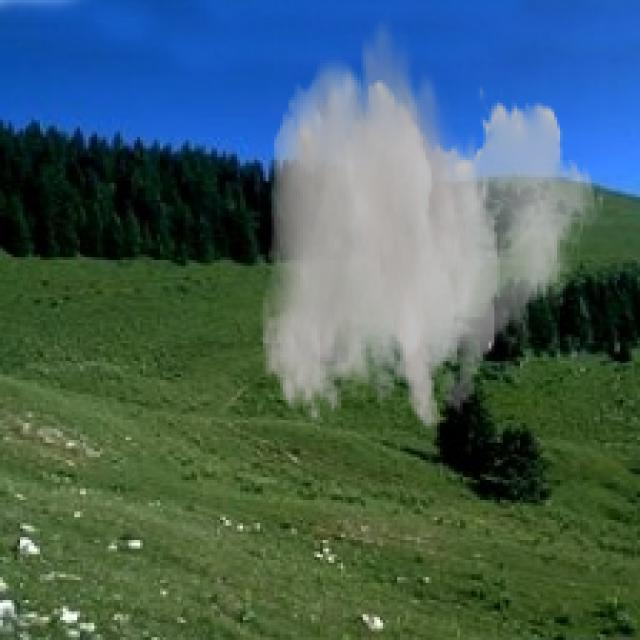Smoke: (260, 11, 606, 432)
